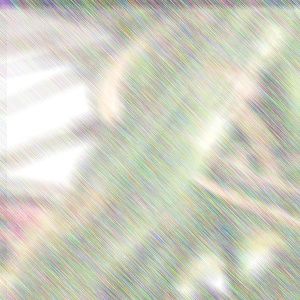Leaf_Blast: (19, 142, 146, 300)
